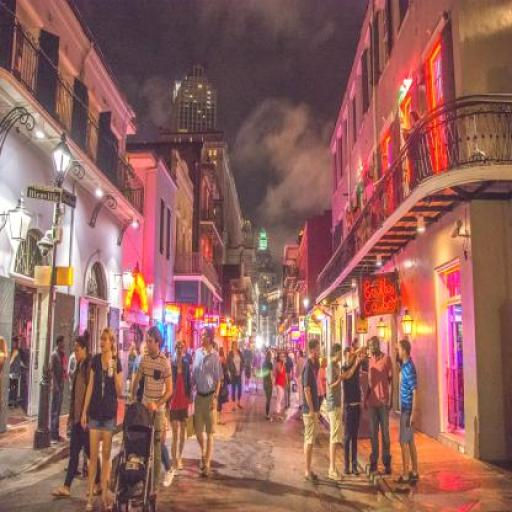street light: (33, 140, 73, 450), (303, 298, 309, 376)
